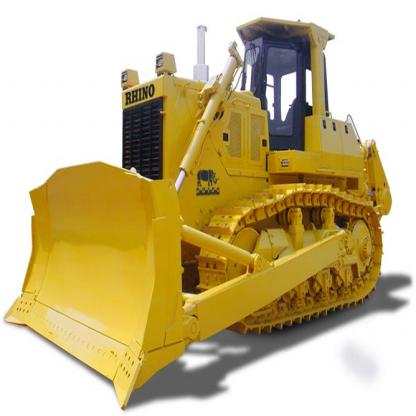bull_dozer/loader/grader: (7, 13, 397, 415)
